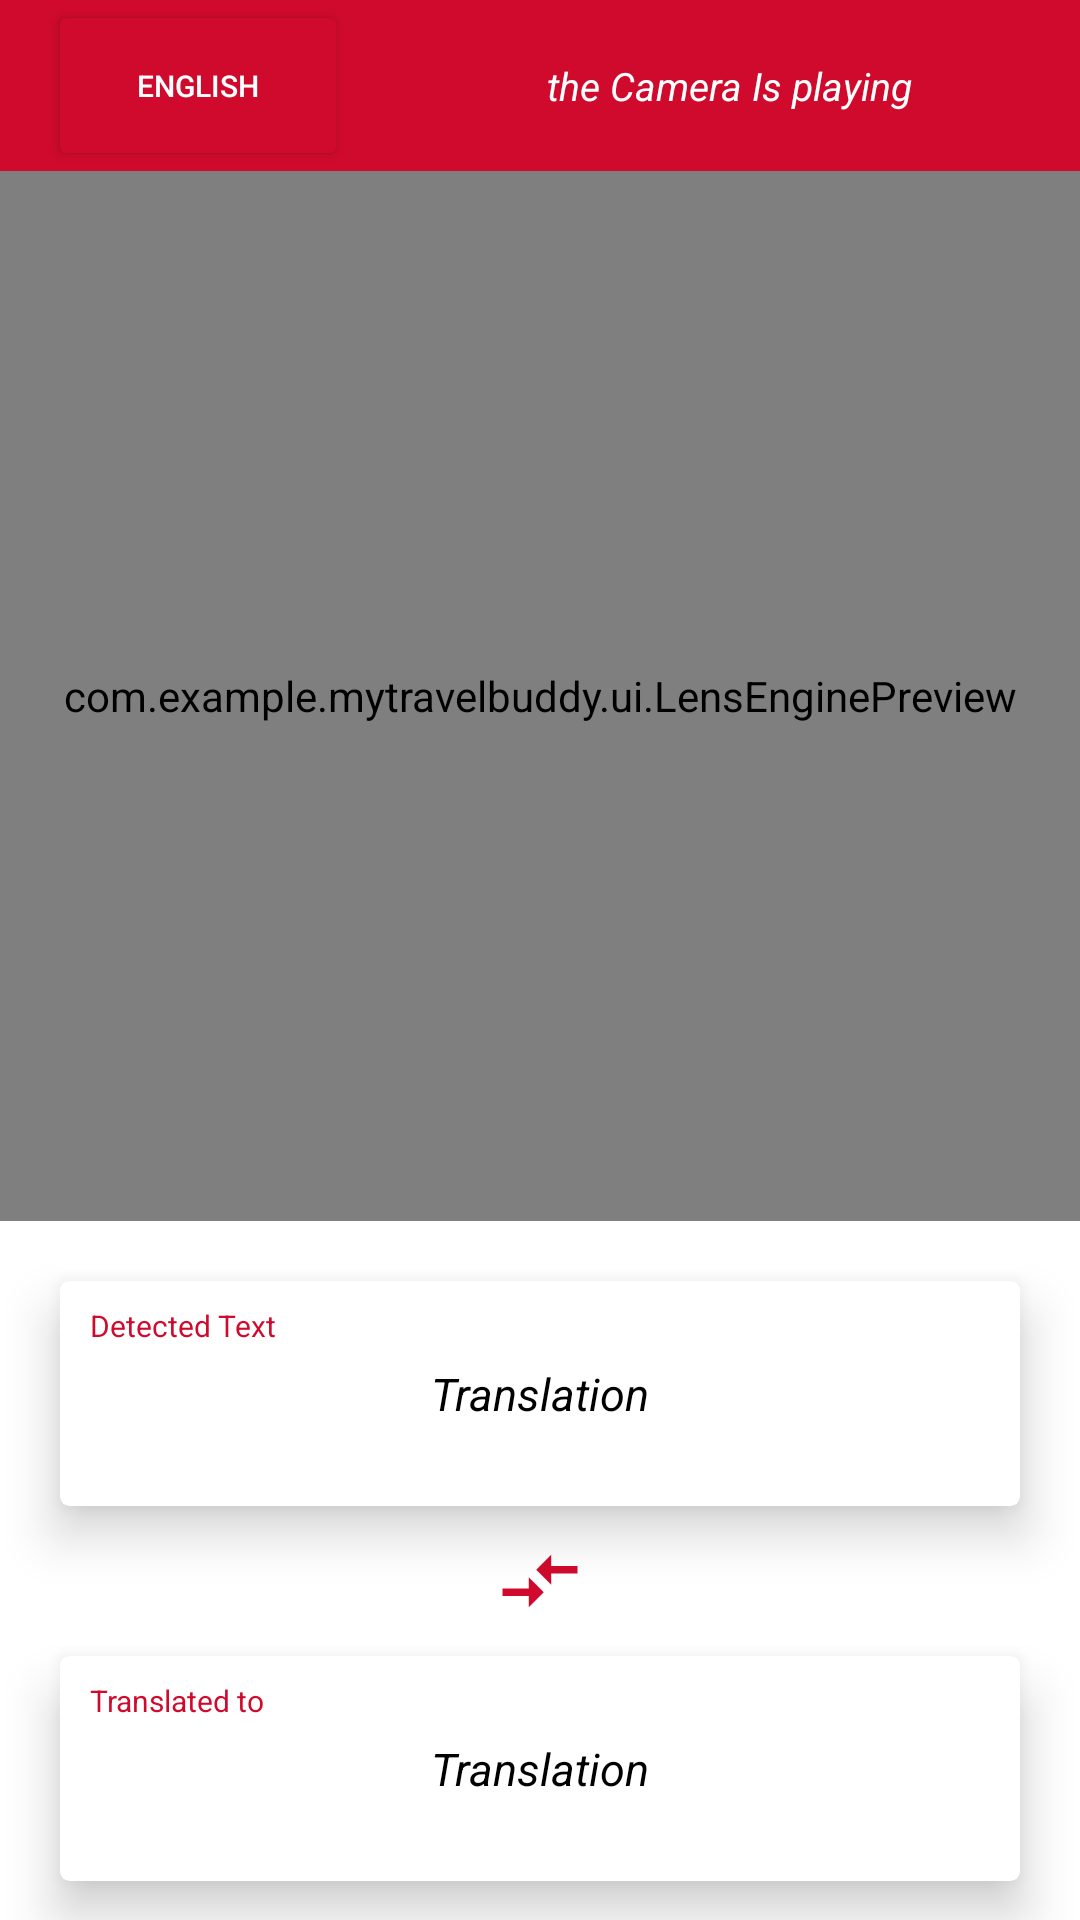

Locate icon controls on the screen. Image size 1080x1920, boxes as (x1=x1, y1=y1, x2=x2, y2=y2).
compare arrows: (x1=502, y1=1555, x2=578, y2=1607)
